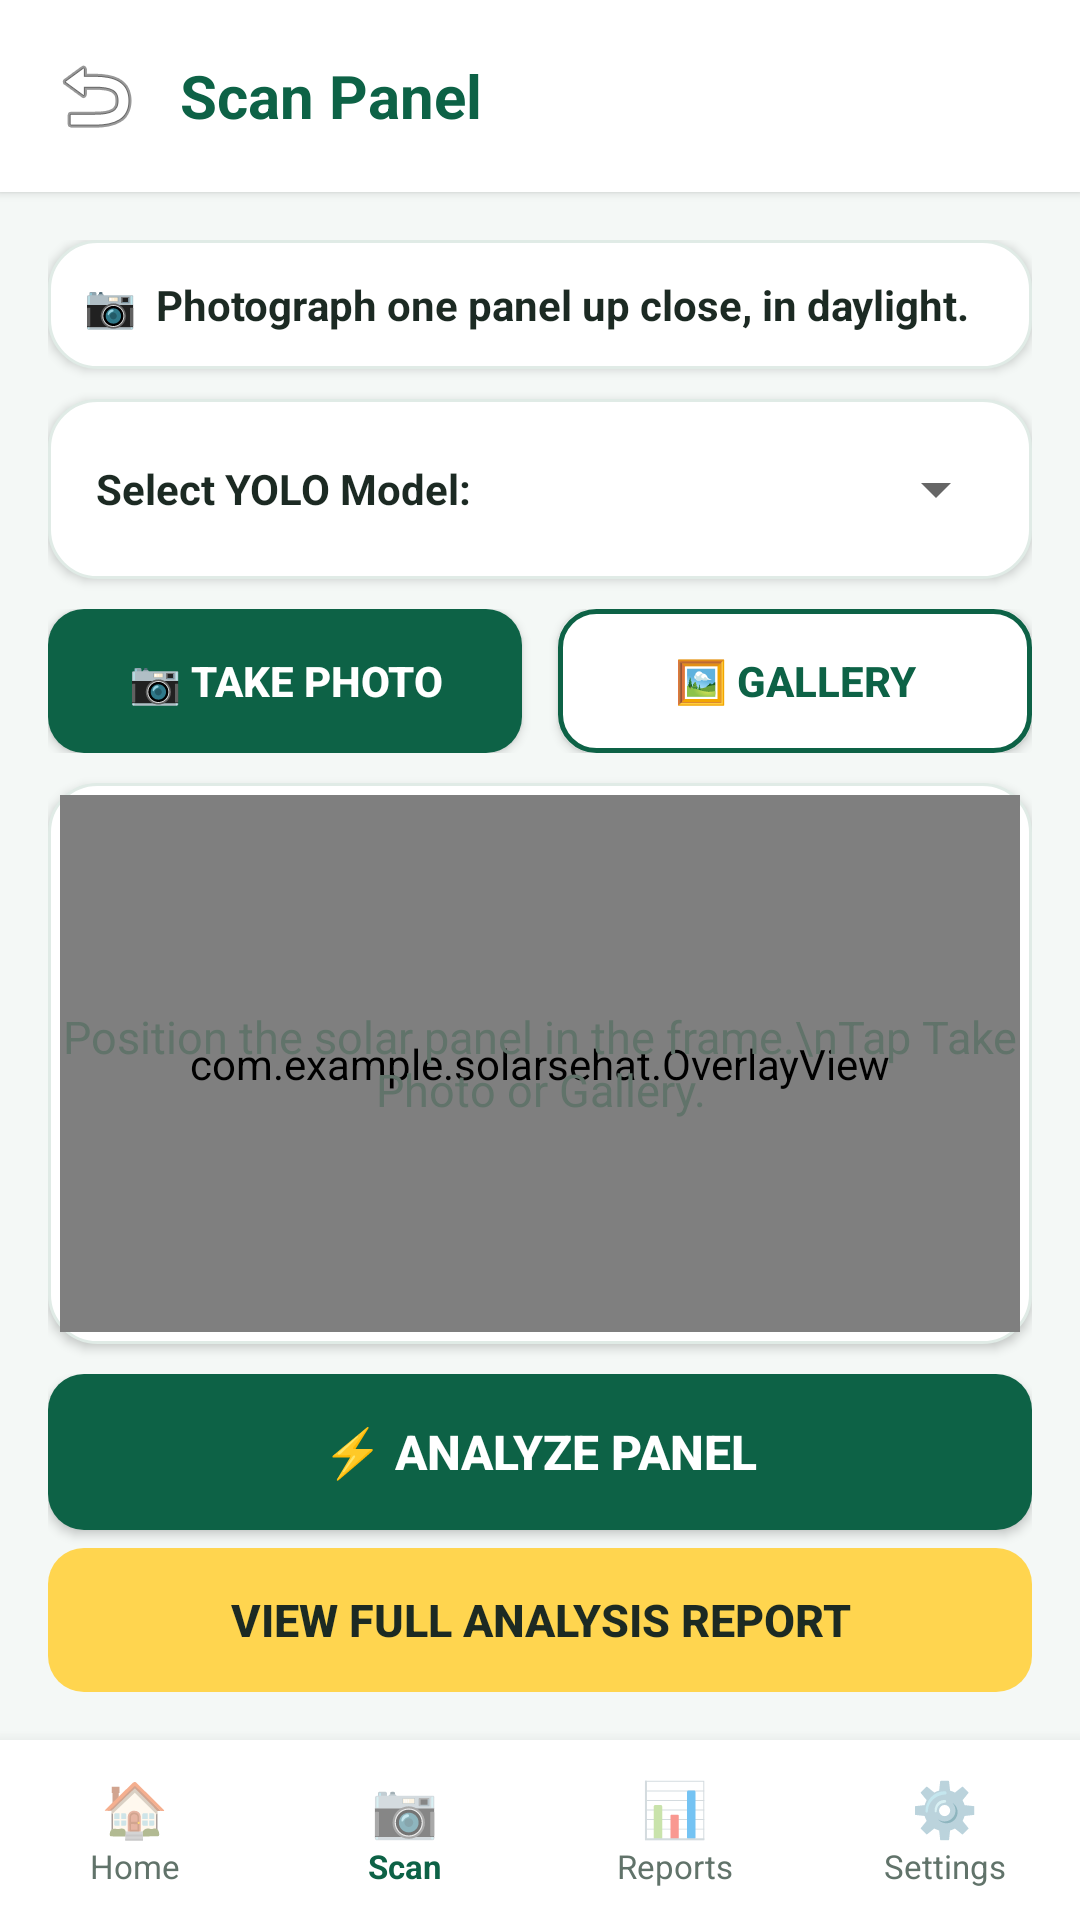

Where icons sit on this 1080w x 1920h app screen, as (x1, y1, x2, y2):
Back: (63, 65, 132, 128)
